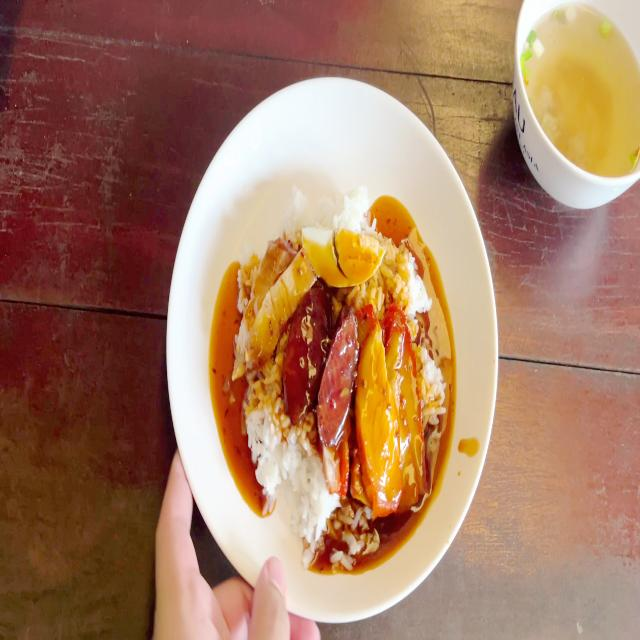boiled_egg: (310, 224, 385, 282)
chainese_sausage: (287, 307, 363, 426), (285, 282, 332, 416), (328, 315, 356, 434)
crispy_pork: (238, 230, 304, 376)
red_pork: (360, 319, 419, 501), (364, 331, 392, 515), (396, 340, 422, 493)
red_pork_and_crispy_pork: (237, 181, 440, 565)
rice: (277, 433, 323, 540), (252, 365, 281, 506), (288, 187, 346, 222), (348, 192, 368, 232)
